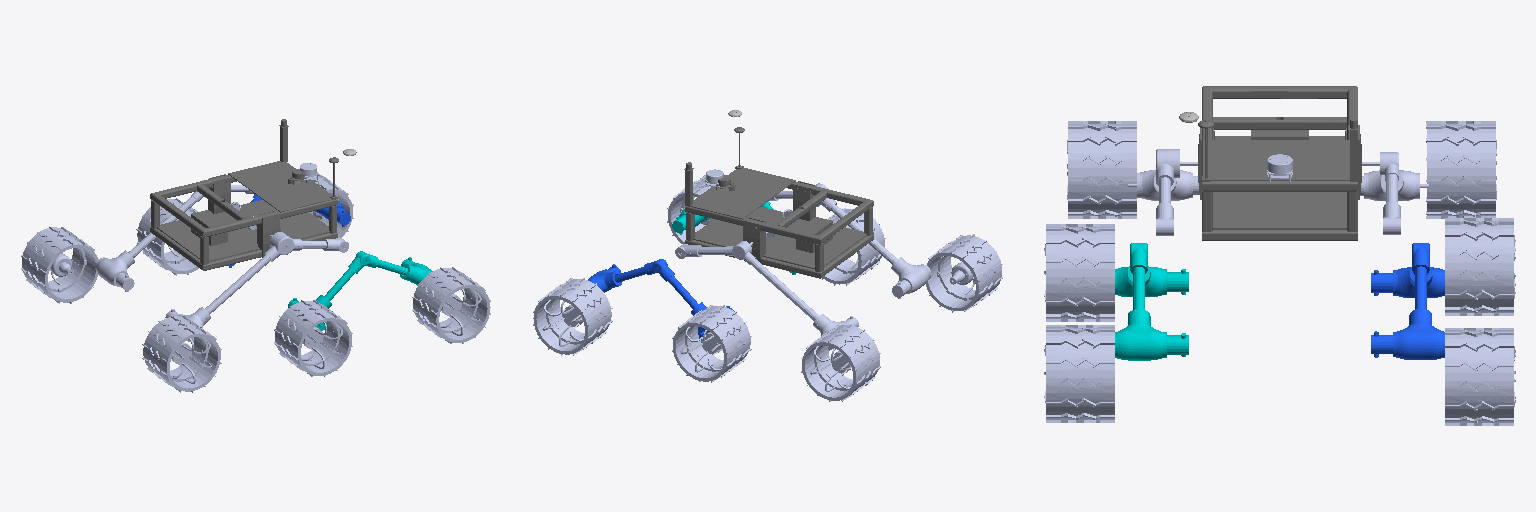
URDF robot description (rover):
<?xml version="1.0" encoding="utf-8"?>
<!-- This URDF was automatically created by SolidWorks to URDF Exporter! Originally created by [author] ([email redacted]) 
     Commit Version: 1.6.0-4-g7f85cfe  Build Version: 1.6.7995.38578
     For more information, please see http://wiki.ros.org/sw_urdf_exporter -->
<robot
  name="rover">
  <link
    name="base_link">
    <inertial>
      <origin
        xyz="-0.0536748217163849 0.0016319931263985 0.0776942084223818"
        rpy="0 0 0" />
      <mass
        value="8.38896979047718" />
      <inertia
        ixx="0.0824198965263737"
        ixy="-4.43100061742721E-10"
        ixz="6.66434163570972E-11"
        iyy="0.0946397388483545"
        iyz="1.38606200029328E-11"
        izz="0.167270604137266" />
    </inertial>
    <visual>
      <origin
        xyz="0 0 0"
        rpy="0 0 0" />
      <geometry>
        <mesh
          filename="package://rover/meshes/base_link.STL" />
      </geometry>
      <material
        name="">
        <color
          rgba="0.501960784313725 0.501960784313725 0.501960784313725 1" />
      </material>
    </visual>
    <collision>
      <origin
        xyz="0 0 0"
        rpy="0 0 0" />
      <geometry>
        <mesh
          filename="package://rover/meshes/base_link.STL" />
      </geometry>
    </collision>
  </link>
  <link
    name="main_right_Link">
    <inertial>
      <origin
        xyz="-0.207122673135177 -0.0648360819489456 -0.125680614494976"
        rpy="0 0 0" />
      <mass
        value="2.85285706586389" />
      <inertia
        ixx="0.00713026467885588"
        ixy="-1.60651190867891E-07"
        ixz="-0.00313845519395342"
        iyy="0.0145758954501888"
        iyz="-0.000280427322034362"
        izz="0.0138758937534045" />
    </inertial>
    <visual>
      <origin
        xyz="0 0 0"
        rpy="0 0 0" />
      <geometry>
        <mesh
          filename="package://rover/meshes/main_right_Link.STL" />
      </geometry>
      <material
        name="">
        <color
          rgba="0.792156862745098 0.819607843137255 0.933333333333333 1" />
      </material>
    </visual>
    <collision>
      <origin
        xyz="0 0 0"
        rpy="0 0 0" />
      <geometry>
        <mesh
          filename="package://rover/meshes/main_right_Link.STL" />
      </geometry>
    </collision>
  </link>
  <joint
    name="main_right_joint "
    type="fixed">
    <origin
      xyz="0 -0.25 0.06"
      rpy="0 0 0" />
    <parent
      link="base_link" />
    <child
      link="main_right_Link" />
    <axis
      xyz="0 0 0" />
    <limit
      lower="0"
      upper="0"
      effort="1"
      velocity="0" />
  </joint>
  <link
    name="right_Link">
    <inertial>
      <origin
        xyz="-0.00103407339158612 0.0101825263563988 -0.176022632424095"
        rpy="0 0 0" />
      <mass
        value="2.83580442969842" />
      <inertia
        ixx="0.00746028039457789"
        ixy="-2.50227056518328E-08"
        ixz="9.96253761169579E-06"
        iyy="0.00588770540405177"
        iyz="-4.50112376686556E-06"
        izz="0.0090359215750643" />
    </inertial>
    <visual>
      <origin
        xyz="0 0 0"
        rpy="0 0 0" />
      <geometry>
        <mesh
          filename="package://rover/meshes/right_Link.STL" />
      </geometry>
      <material
        name="">
        <color
          rgba="0 0.843137254901961 0.843137254901961 1" />
      </material>
    </visual>
    <collision>
      <origin
        xyz="0 0 0"
        rpy="0 0 0" />
      <geometry>
        <mesh
          filename="package://rover/meshes/right_Link.STL" />
      </geometry>
    </collision>
  </link>
  <joint
    name="right_joint"
    type="fixed">
    <origin
      xyz="0.33191 -0.1365 -0.11106"
      rpy="0 0 0" />
    <parent
      link="main_right_Link" />
    <child
      link="right_Link" />
    <axis
      xyz="0 0 0" />
    <limit
      lower="0"
      upper="0"
      effort="1"
      velocity="0" />
  </joint>
  <link
    name="right_wheel_1_Link">
    <inertial>
      <origin
        xyz="-0.0001040564919077 -0.07423056161841 -3.87404231570326E-05"
        rpy="0 0 0" />
      <mass
        value="2.61333462277274" />
      <inertia
        ixx="0.0233445299571817"
        ixy="-1.27517919191306E-07"
        ixz="-9.86569992668998E-07"
        iyy="0.0336422624911562"
        iyz="2.31382867305405E-07"
        izz="0.023347329272668" />
    </inertial>
    <visual>
      <origin
        xyz="0 0 0"
        rpy="0 0 0" />
      <geometry>
        <mesh
          filename="package://rover/meshes/right_wheel_1_Link.STL" />
      </geometry>
      <material
        name="">
        <color
          rgba="0.792156862745098 0.819607843137255 0.933333333333333 1" />
      </material>
    </visual>
    <collision>
      <origin
        xyz="0 0 0"
        rpy="0 0 0" />
      <geometry>
        <mesh
          filename="package://rover/meshes/right_wheel_1_Link.STL" />
      </geometry>
    </collision>
  </link>
  <joint
    name="right_wheel_1_joint"
    type="continuous">
    <origin
      xyz="0.32215 -0.08716 -0.21995"
      rpy="0 0 0" />
    <parent
      link="right_Link" />
    <child
      link="right_wheel_1_Link" />
    <axis
      xyz="0 1 0" />
    <limit
      lower="0"
      upper="0"
      effort="1"
      velocity="0" />
  </joint>
  <link
    name="right_wheel_2_Link">
    <inertial>
      <origin
        xyz="-0.000102525401731779 -0.0742305616184099 -4.26276423725058E-05"
        rpy="0 0 0" />
      <mass
        value="2.61333462277271" />
      <inertia
        ixx="0.0233446080967335"
        ixy="-1.36132358068656E-07"
        ixz="-1.08901414997242E-06"
        iyy="0.033642262491156"
        iyz="2.26421801123164E-07"
        izz="0.0233472511331158" />
    </inertial>
    <visual>
      <origin
        xyz="0 0 0"
        rpy="0 0 0" />
      <geometry>
        <mesh
          filename="package://rover/meshes/right_wheel_2_Link.STL" />
      </geometry>
      <material
        name="">
        <color
          rgba="0.792156862745098 0.819607843137255 0.933333333333333 1" />
      </material>
    </visual>
    <collision>
      <origin
        xyz="0 0 0"
        rpy="0 0 0" />
      <geometry>
        <mesh
          filename="package://rover/meshes/right_wheel_2_Link.STL" />
      </geometry>
    </collision>
  </link>
  <joint
    name="right_wheel_2_joint"
    type="continuous">
    <origin
      xyz="-0.32449 -0.08716 -0.21615"
      rpy="0 0 0" />
    <parent
      link="right_Link" />
    <child
      link="right_wheel_2_Link" />
    <axis
      xyz="0 1 0" />
    <limit
      lower="0"
      upper="0"
      effort="1"
      velocity="0" />
  </joint>
  <link
    name="right_wheel_3_Link">
    <inertial>
      <origin
        xyz="0.000104658318834355 -0.0742305616184098 3.7083826572748E-05"
        rpy="0 0 0" />
      <mass
        value="2.61333462277273" />
      <inertia
        ixx="0.0233444993462801"
        ixy="1.23829052998644E-07"
        ixz="-9.41644174942918E-07"
        iyy="0.0336422624911562"
        iyz="-2.33377840775615E-07"
        izz="0.0233473598835696" />
    </inertial>
    <visual>
      <origin
        xyz="0 0 0"
        rpy="0 0 0" />
      <geometry>
        <mesh
          filename="package://rover/meshes/right_wheel_3_Link.STL" />
      </geometry>
      <material
        name="">
        <color
          rgba="0.792156862745098 0.819607843137255 0.933333333333333 1" />
      </material>
    </visual>
    <collision>
      <origin
        xyz="0 0 0"
        rpy="0 0 0" />
      <geometry>
        <mesh
          filename="package://rover/meshes/right_wheel_3_Link.STL" />
      </geometry>
    </collision>
  </link>
  <joint
    name="right_wheel_3_joint"
    type="continuous">
    <origin
      xyz="-0.57252 -0.16266 -0.28629"
      rpy="0 0 0" />
    <parent
      link="main_right_Link" />
    <child
      link="right_wheel_3_Link" />
    <axis
      xyz="0 1 0" />
    <limit
      lower="0"
      upper="0"
      effort="1"
      velocity="0" />
  </joint>
  <link
    name="main_left_Link">
    <inertial>
      <origin
        xyz="-0.207121573517651 0.0648362330129243 -0.125679977812972"
        rpy="0 0 0" />
      <mass
        value="2.85287199052498" />
      <inertia
        ixx="0.0071299944781879"
        ixy="1.47211908955465E-07"
        ixz="-0.00313801675679204"
        iyy="0.0145759184983927"
        iyz="0.000280435682159991"
        izz="0.013876217497563" />
    </inertial>
    <visual>
      <origin
        xyz="0 0 0"
        rpy="0 0 0" />
      <geometry>
        <mesh
          filename="package://rover/meshes/main_left_Link.STL" />
      </geometry>
      <material
        name="">
        <color
          rgba="0.792156862745098 0.819607843137255 0.933333333333333 1" />
      </material>
    </visual>
    <collision>
      <origin
        xyz="0 0 0"
        rpy="0 0 0" />
      <geometry>
        <mesh
          filename="package://rover/meshes/main_left_Link.STL" />
      </geometry>
    </collision>
  </link>
  <joint
    name="main_left_joint"
    type="fixed">
    <origin
      xyz="0 0.25 0.06"
      rpy="0 0 0" />
    <parent
      link="base_link" />
    <child
      link="main_left_Link" />
    <axis
      xyz="0 0 0" />
    <limit
      lower="0"
      upper="0"
      effort="1"
      velocity="0" />
  </joint>
  <link
    name="left_Link">
    <inertial>
      <origin
        xyz="-0.00830883561017781 -0.0101825271447156 -0.175829445509165"
        rpy="0 0 0" />
      <mass
        value="2.83580429961089" />
      <inertia
        ixx="0.00746184147402411"
        ixy="2.14789314566334E-07"
        ixz="7.70584455069E-05"
        iyy="0.0058877055315575"
        iyz="4.49430559451764E-06"
        izz="0.00903436044844602" />
    </inertial>
    <visual>
      <origin
        xyz="0 0 0"
        rpy="0 0 0" />
      <geometry>
        <mesh
          filename="package://rover/meshes/left_Link.STL" />
      </geometry>
      <material
        name="">
        <color
          rgba="0.184313725490196 0.43921568627451 1 1" />
      </material>
    </visual>
    <collision>
      <origin
        xyz="0 0 0"
        rpy="0 0 0" />
      <geometry>
        <mesh
          filename="package://rover/meshes/left_Link.STL" />
      </geometry>
    </collision>
  </link>
  <joint
    name="left_joint"
    type="fixed">
    <origin
      xyz="0.33191 0.1365 -0.11106"
      rpy="0 0 0" />
    <parent
      link="main_left_Link" />
    <child
      link="left_Link" />
    <axis
      xyz="0 0 0" />
    <limit
      lower="0"
      upper="0"
      effort="1"
      velocity="0" />
  </joint>
  <link
    name="left_wheel_1_Link">
    <inertial>
      <origin
        xyz="0.000110959378041509 0.0742305616184091 4.07312157983675E-06"
        rpy="0 0 0" />
      <mass
        value="2.61333462277267" />
      <inertia
        ixx="0.0233442425288218"
        ixy="-2.91608989114214E-08"
        ixz="-2.934324984962E-07"
        iyy="0.0336422624911555"
        iyz="-2.62580452118819E-07"
        izz="0.0233476167010269" />
    </inertial>
    <visual>
      <origin
        xyz="0 0 0"
        rpy="0 0 0" />
      <geometry>
        <mesh
          filename="package://rover/meshes/left_wheel_1_Link.STL" />
      </geometry>
      <material
        name="">
        <color
          rgba="0.792156862745098 0.819607843137255 0.933333333333333 1" />
      </material>
    </visual>
    <collision>
      <origin
        xyz="0 0 0"
        rpy="0 0 0" />
      <geometry>
        <mesh
          filename="package://rover/meshes/left_wheel_1_Link.STL" />
      </geometry>
    </collision>
  </link>
  <joint
    name="left_wheel_1_joint"
    type="continuous">
    <origin
      xyz="0.31256 0.08716 -0.23312"
      rpy="0 0 0" />
    <parent
      link="left_Link" />
    <child
      link="left_wheel_1_Link" />
    <axis
      xyz="0 1 0" />
    <limit
      lower="0"
      upper="0"
      effort="1"
      velocity="0" />
  </joint>
  <link
    name="left_wheel_2_Link">
    <inertial>
      <origin
        xyz="0.000108404976036092 0.0742305616184098 2.40194726223164E-05"
        rpy="0 0 0" />
      <mass
        value="2.61333462277272" />
      <inertia
        ixx="0.0233444564091624"
        ixy="1.86775817862951E-08"
        ixz="-8.7294153883288E-07"
        iyy="0.0336422624911561"
        iyz="-2.63533676941707E-07"
        izz="0.0233474028206871" />
    </inertial>
    <visual>
      <origin
        xyz="0 0 0"
        rpy="0 0 0" />
      <geometry>
        <mesh
          filename="package://rover/meshes/left_wheel_2_Link.STL" />
      </geometry>
      <material
        name="">
        <color
          rgba="0.792156862745098 0.819607843137255 0.933333333333333 1" />
      </material>
    </visual>
    <collision>
      <origin
        xyz="0 0 0"
        rpy="0 0 0" />
      <geometry>
        <mesh
          filename="package://rover/meshes/left_wheel_2_Link.STL" />
      </geometry>
    </collision>
  </link>
  <joint
    name="left_wheel_2_joint"
    type="continuous">
    <origin
      xyz="-0.33336 0.08716 -0.20261"
      rpy="0 0 0" />
    <parent
      link="left_Link" />
    <child
      link="left_wheel_2_Link" />
    <axis
      xyz="0 1 0" />
    <limit
      lower="0"
      upper="0"
      effort="1"
      velocity="0" />
  </joint>
  <link
    name="left_wheel_3_Link">
    <inertial>
      <origin
        xyz="0.000110329321879959 0.0742305616184099 1.24905815858112E-05"
        rpy="0 0 0" />
      <mass
        value="2.61333462277275" />
      <inertia
        ixx="0.0233443064544561"
        ixy="-9.12923510347049E-09"
        ixz="-5.45630132179492E-07"
        iyy="0.0336422624911561"
        iyz="-2.64036946146049E-07"
        izz="0.0233475527753935" />
    </inertial>
    <visual>
      <origin
        xyz="0 0 0"
        rpy="0 0 0" />
      <geometry>
        <mesh
          filename="package://rover/meshes/left_wheel_3_Link.STL" />
      </geometry>
      <material
        name="">
        <color
          rgba="0.792156862745098 0.819607843137255 0.933333333333333 1" />
      </material>
    </visual>
    <collision>
      <origin
        xyz="0 0 0"
        rpy="0 0 0" />
      <geometry>
        <mesh
          filename="package://rover/meshes/left_wheel_3_Link.STL" />
      </geometry>
    </collision>
  </link>
  <joint
    name="left_wheel_3_joint"
    type="continuous">
    <origin
      xyz="-0.57252 0.17266 -0.28629"
      rpy="0 0 0" />
    <parent
      link="main_left_Link" />
    <child
      link="left_wheel_3_Link" />
    <axis
      xyz="0 1 0" />
    <limit
      lower="0"
      upper="0"
      effort="1"
      velocity="0" />
  </joint>
  <link
    name="lidar_link">
    <inertial>
      <origin
        xyz="-0.00701820465484082 0.000193050942876805 -0.0218318657433744"
        rpy="0 0 0" />
      <mass
        value="1.27729502358402" />
      <inertia
        ixx="0.000593155004344456"
        ixy="-8.3078151906336E-07"
        ixz="-0.000162730950395813"
        iyy="0.000933018731061215"
        iyz="3.17002772661612E-06"
        izz="0.00106895549805298" />
    </inertial>
    <visual>
      <origin
        xyz="0 0 0"
        rpy="0 0 0" />
      <geometry>
        <mesh
          filename="package://rover/meshes/lidar_link.STL" />
      </geometry>
      <material
        name="">
        <color
          rgba="0.792156862745098 0.819607843137255 0.933333333333333 1" />
      </material>
    </visual>
    <collision>
      <origin
        xyz="0 0 0"
        rpy="0 0 0" />
      <geometry>
        <mesh
          filename="package://rover/meshes/lidar_link.STL" />
      </geometry>
    </collision>
  </link>
  <joint
    name="lidar_joint"
    type="fixed">
    <origin
      xyz="0.30015 -9.7458E-05 0.2127"
      rpy="0 0 0" />
    <parent
      link="base_link" />
    <child
      link="lidar_link" />
    <axis
      xyz="0 0 0" />
    <limit
      effort="1"
      velocity="0" />
  </joint>
  <link
    name="gps_Link">
    <inertial>
      <origin
        xyz="0.000160323077888824 0.000159713862371902 0.00476772012157511"
        rpy="0 0 0" />
      <mass
        value="0.0150442699487831" />
      <inertia
        ixx="2.9294543165391E-06"
        ixy="-4.15267136872039E-08"
        ixz="4.6847607363609E-09"
        iyy="2.92944834301397E-06"
        iyz="4.72466461820552E-09"
        izz="5.71408714620091E-06" />
    </inertial>
    <visual>
      <origin
        xyz="0 0 0"
        rpy="0 0 0" />
      <geometry>
        <mesh
          filename="package://rover/meshes/gps_Link.STL" />
      </geometry>
      <material
        name="">
        <color
          rgba="0.752941176470588 0.752941176470588 0.752941176470588 1" />
      </material>
    </visual>
    <collision>
      <origin
        xyz="0 0 0"
        rpy="0 0 0" />
      <geometry>
        <mesh
          filename="package://rover/meshes/gps_Link.STL" />
      </geometry>
    </collision>
  </link>
  <joint
    name="gps_joint"
    type="fixed">
    <origin
      xyz="0.35 -0.25 0.36"
      rpy="0 0 0" />
    <parent
      link="base_link" />
    <child
      link="gps_Link" />
    <axis
      xyz="0 0 0" />
  </joint>
  <!-- diff drive multi wheel plugin -->
  <gazebo>
    <plugin name="differential_drive_controller" filename="libgazebo_ros_diff_drive_multiwheel.so">
        <updateRate>50</updateRate>
        <leftJoints>left_wheel_3_joint left_wheel_2_joint left_wheel_1_joint</leftJoints>
        <rightJoints>right_wheel_3_joint right_wheel_2_joint right_wheel_1_joint</rightJoints>
        <wheelSeparation>0.11</wheelSeparation>
        <wheelDiameter>0.27</wheelDiameter>
        <wheelAcceleration>0.2</wheelAcceleration>
        <wheelTorque>0</wheelTorque>
        <commandTopic>cmd_vel</commandTopic>
        <odometryTopic>odom</odometryTopic>
        <odometryFrame>odom</odometryFrame>
        <robotBaseFrame>base_link</robotBaseFrame>
        <odometrySource>0</odometrySource>
        <publishWheelTF>true</publishWheelTF>
        <publishOdomTF>false</publishOdomTF>
        <publishWheelJointState>true</publishWheelJointState>
        <legacyMode>false</legacyMode>
    </plugin>
  </gazebo>
  <!-- lidar plugin -->
  <gazebo reference="lidar_link">
    <sensor type="ray" name="head_rplidar_sensor">
      <pose>0 0 0 0 0 0</pose>
      <visualize>true</visualize>
      <update_rate>40</update_rate>
      <ray>
        <scan>
          <horizontal>
            <samples>720</samples>
            <resolution>1</resolution>
            <min_angle>-1.25</min_angle>
            <max_angle>1.25</max_angle>
          </horizontal>
        </scan>
        <range>
          <min>0.2</min>
          <max>4</max>
          <resolution>0.01</resolution>
        </range>
        <noise>
          <type>gaussian</type>
          <mean>0.0</mean>
          <stddev>0.01</stddev>
        </noise>
      </ray>
      <plugin name='laser' filename='libgazebo_ros_laser.so'>
        <topicName>scan</topicName>
        <frameName>lidar_link</frameName>
        <always_on>1</always_on>
        <update_rate>40</update_rate>
      </plugin>
    </sensor>
  </gazebo>
  <!-- imu plugin -->
  <gazebo>
    <plugin filename="libhector_gazebo_ros_imu.so" name="imu_controller">
      <robotNamespace>/</robotNamespace>
      <frameName>base_link</frameName>
      <updateRate>50.0</updateRate>
      <bodyName>base_link</bodyName>
      <topicName>imu/data</topicName>
      <accelDrift>0.005 0.005 0.005</accelDrift>
      <accelGaussianNoise>0.005 0.005 0.005</accelGaussianNoise>
      <rateDrift>0.005 0.005 0.005 </rateDrift>
      <rateGaussianNoise>0.005 0.005 0.005 </rateGaussianNoise>
      <headingDrift>0.005</headingDrift>
      <headingGaussianNoise>0.005</headingGaussianNoise>
    </plugin>
  </gazebo>
  <!-- gps plugin -->
  <gazebo>
    <plugin filename="libhector_gazebo_ros_gps.so" name="gps_controller">
      <robotNamespace>/</robotNamespace>
      <updateRate>40</updateRate>
      <bodyName>base_link</bodyName>
      <frameId>gps_Link</frameId>
      <topicName>navsat/fix</topicName>
      <velocityTopicName>navsat/vel</velocityTopicName>
      <referenceLatitude>49.9</referenceLatitude>
      <referenceLongitude>8.9</referenceLongitude>
      <referenceHeading>0</referenceHeading>
      <referenceAltitude>0</referenceAltitude>
      <drift>0.0001 0.0001 0.0001</drift>
    </plugin>
  </gazebo>
</robot>

--- What the picture shows (computed from the rendered views, not written in the file) ---
3 views of the same robot in one strip: view 1: azimuth 30°, elevation 25°; view 2: azimuth 150°, elevation 25°; view 3: azimuth 270°, elevation 25° (orthographic).
Model rover with 13 links and 12 joints (6 continuous, 6 fixed), rooted at base_link, posed every joint at zero.
Visible links, largest first — view 1: base_link, right_wheel_3_Link, right_wheel_1_Link, right_wheel_2_Link, left_wheel_3_Link, main_right_Link, main_left_Link, right_Link, left_wheel_2_Link, left_wheel_1_Link; view 2: base_link, left_wheel_3_Link, left_wheel_1_Link, left_wheel_2_Link, right_wheel_3_Link, main_left_Link, main_right_Link, left_Link, right_wheel_2_Link, right_wheel_1_Link; view 3: base_link, left_wheel_2_Link, left_wheel_1_Link, right_wheel_2_Link, right_wheel_1_Link, right_wheel_3_Link, left_wheel_3_Link, right_Link, left_Link, main_right_Link, main_left_Link, lidar_link.
Boxes of the visible links, x1,y1,x2,y2 form: base_link: [150, 119, 338, 270]; right_wheel_3_Link: [142, 315, 221, 392]; right_wheel_1_Link: [412, 267, 490, 343]; right_wheel_2_Link: [274, 300, 352, 376]; left_wheel_3_Link: [21, 226, 98, 303]; main_right_Link: [165, 216, 348, 342]; main_left_Link: [95, 180, 253, 291]; right_Link: [288, 251, 432, 330]; left_wheel_2_Link: [136, 198, 198, 275]; left_wheel_1_Link: [309, 174, 353, 237]; base_link: [684, 127, 873, 278]; left_wheel_3_Link: [801, 324, 880, 401]; left_wheel_1_Link: [533, 278, 612, 355]; left_wheel_2_Link: [672, 305, 751, 382]; right_wheel_3_Link: [926, 234, 1002, 312]; main_left_Link: [675, 232, 858, 350]; main_right_Link: [769, 183, 931, 298]; left_Link: [588, 259, 734, 339]; right_wheel_2_Link: [822, 208, 885, 285]; right_wheel_1_Link: [667, 175, 713, 243]; base_link: [1198, 86, 1361, 240]; left_wheel_2_Link: [1445, 218, 1515, 315]; left_wheel_1_Link: [1445, 328, 1515, 425]; right_wheel_2_Link: [1044, 224, 1114, 321]; right_wheel_1_Link: [1044, 325, 1114, 422]; right_wheel_3_Link: [1067, 121, 1136, 218]; left_wheel_3_Link: [1426, 121, 1496, 218]; right_Link: [1115, 243, 1188, 360]; left_Link: [1371, 243, 1444, 359]; main_right_Link: [1128, 149, 1199, 235]; main_left_Link: [1360, 152, 1428, 234]; lidar_link: [1267, 154, 1292, 182].
Bounding box of the posed robot: 1.5 × 1.29 × 0.7927 m (x, y, z).
13 mesh visuals loaded from 13 distinct referenced files (13 binary STL).
